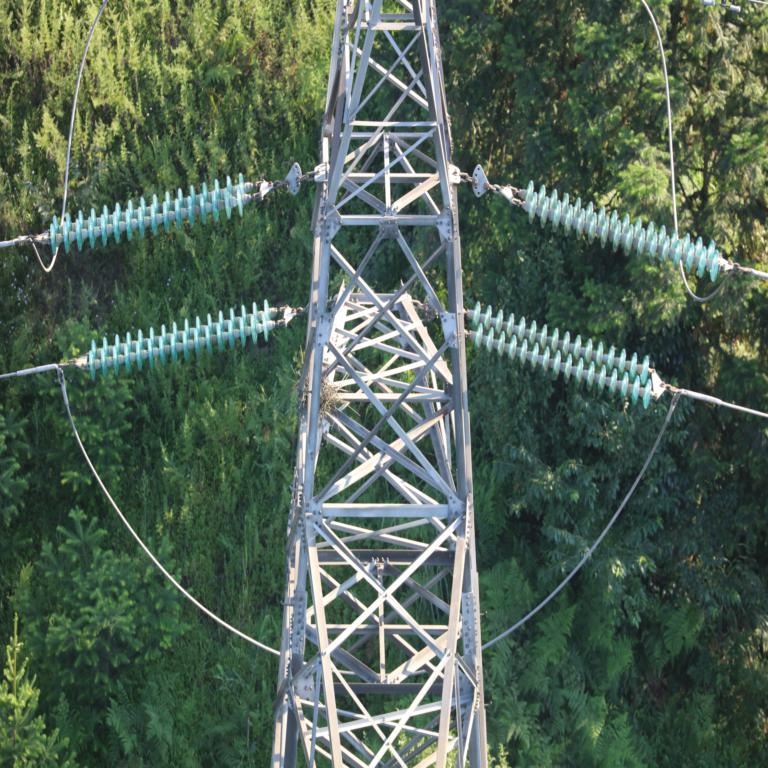nest: (302, 376, 340, 418)
